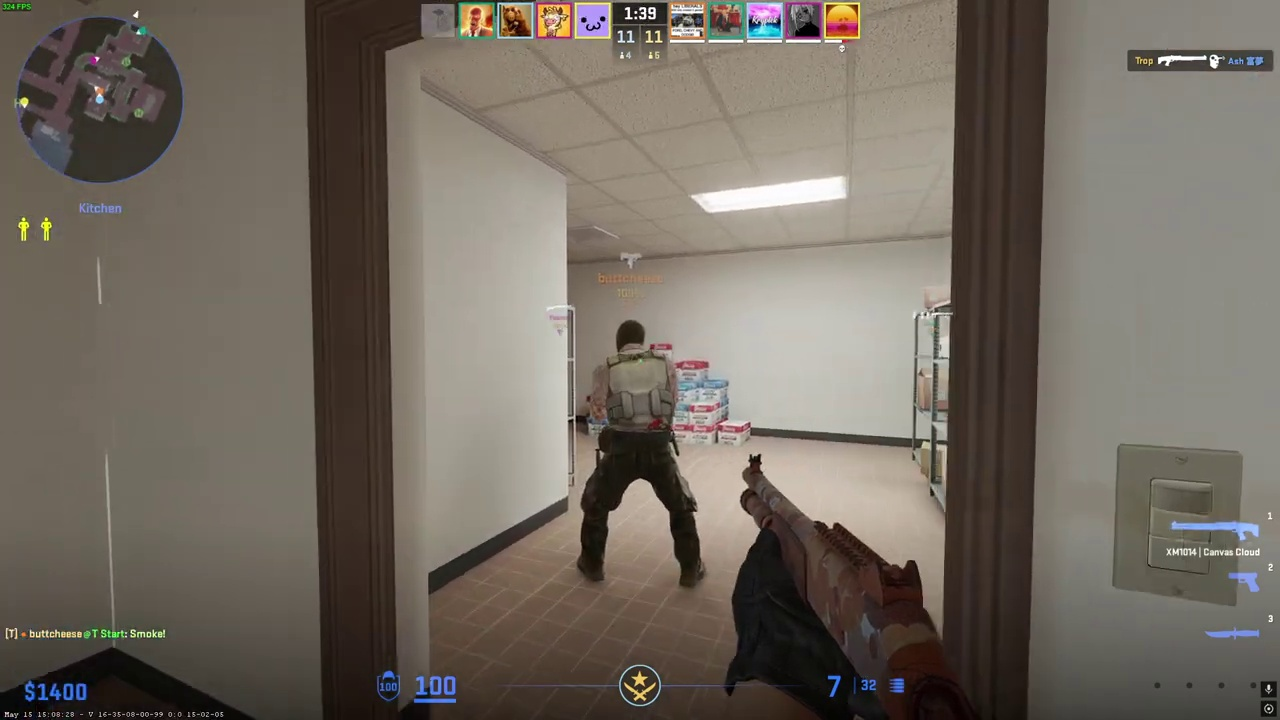Terrorist: (576, 319, 705, 588)
